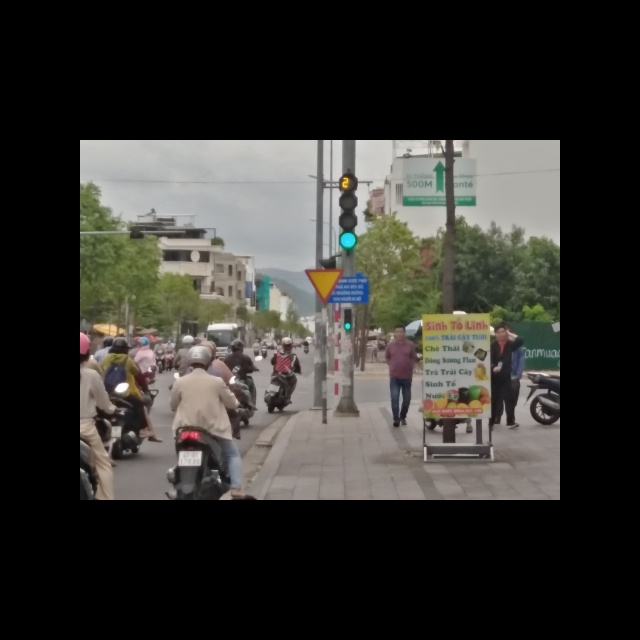Giao nhau với đường ưu tiên: (304, 267, 345, 303)
Đèn xanh: (339, 231, 357, 248)
